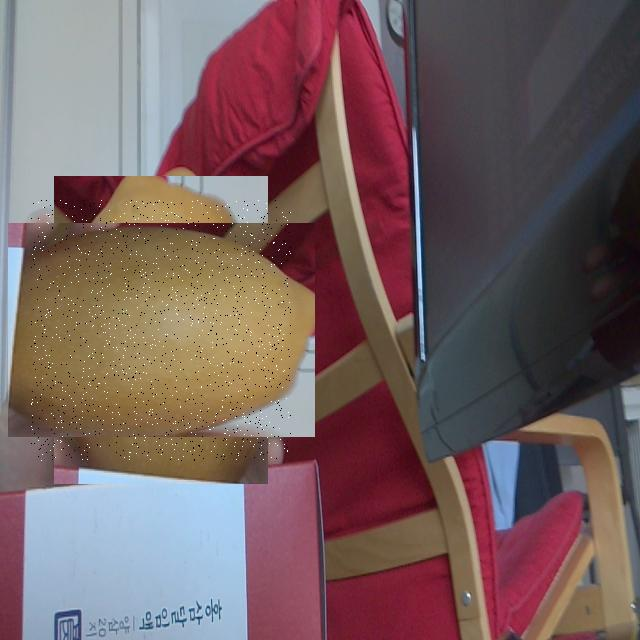pear: (31, 200, 291, 461)
